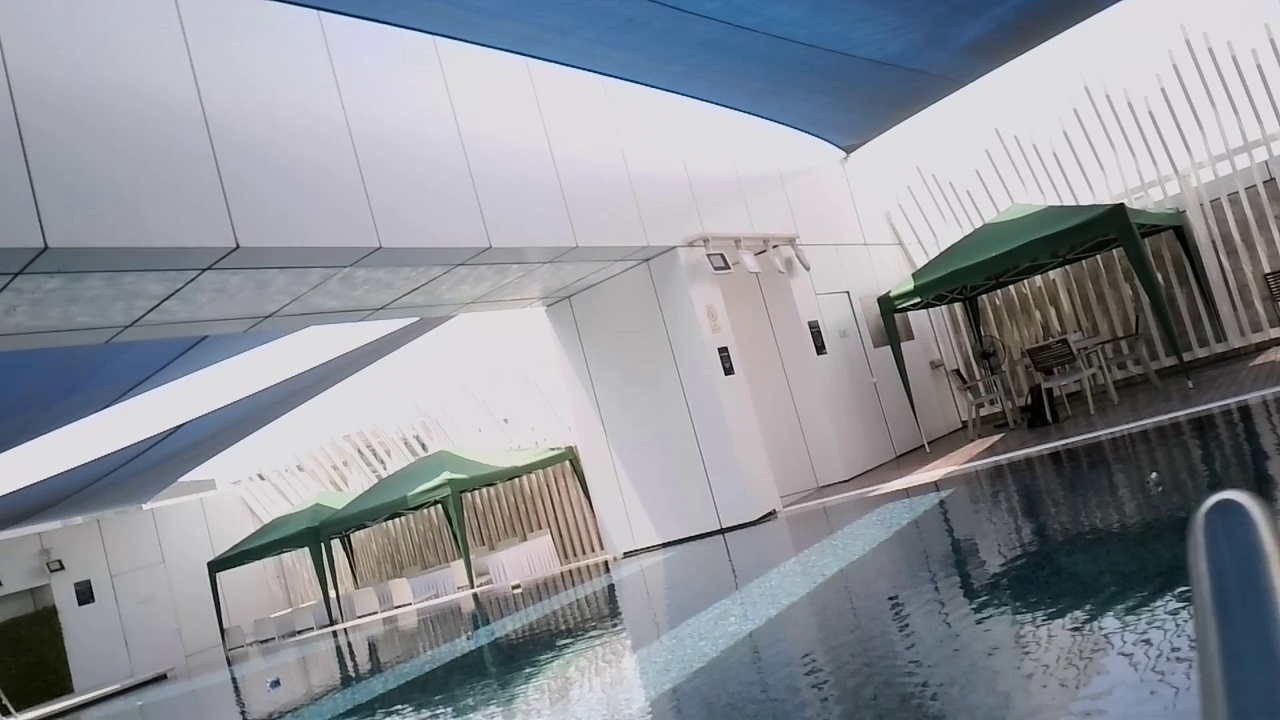debris: (1139, 469, 1162, 491), (260, 675, 283, 690), (505, 577, 525, 592), (458, 627, 476, 642)
